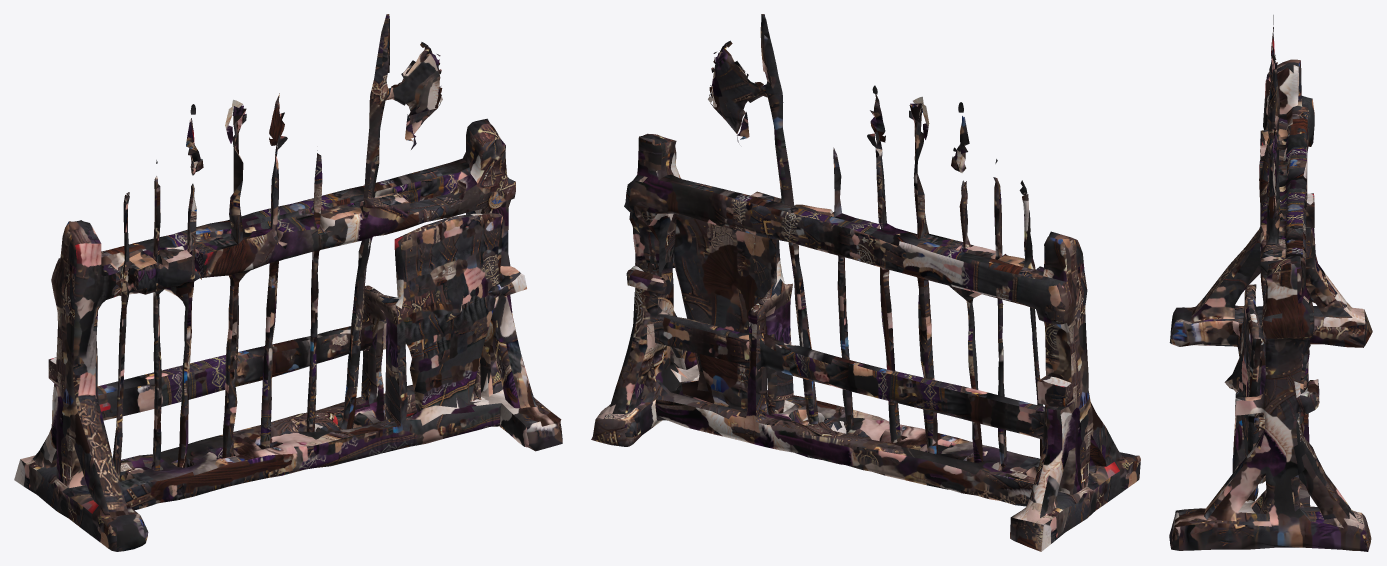
The picture shows the model from 3 angles, left to right: view 1: azimuth 30°, elevation 25°; view 2: azimuth 150°, elevation 25°; view 3: azimuth 270°, elevation 25°; orthographic projection.
Parts seen in each view (by area): view 1: tripo_node_c29d5463; view 2: tripo_node_c29d5463; view 3: tripo_node_c29d5463.
Part boxes in pixels (x1=…): tripo_node_c29d5463: x1=14, y1=14, x2=562, y2=551; tripo_node_c29d5463: x1=591, y1=14, x2=1140, y2=551; tripo_node_c29d5463: x1=1169, y1=15, x2=1372, y2=551.
Bounding box in the file's own units: 0.9957 × 0.884 × 0.3867.
